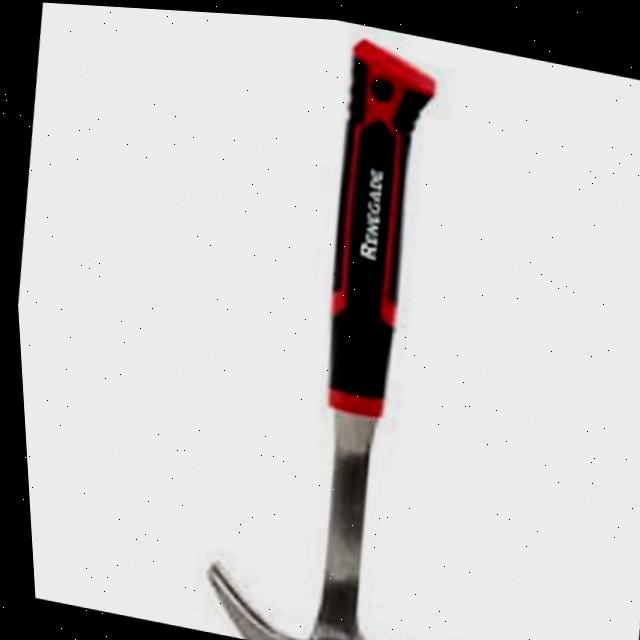hammer: (150, 7, 557, 640)
